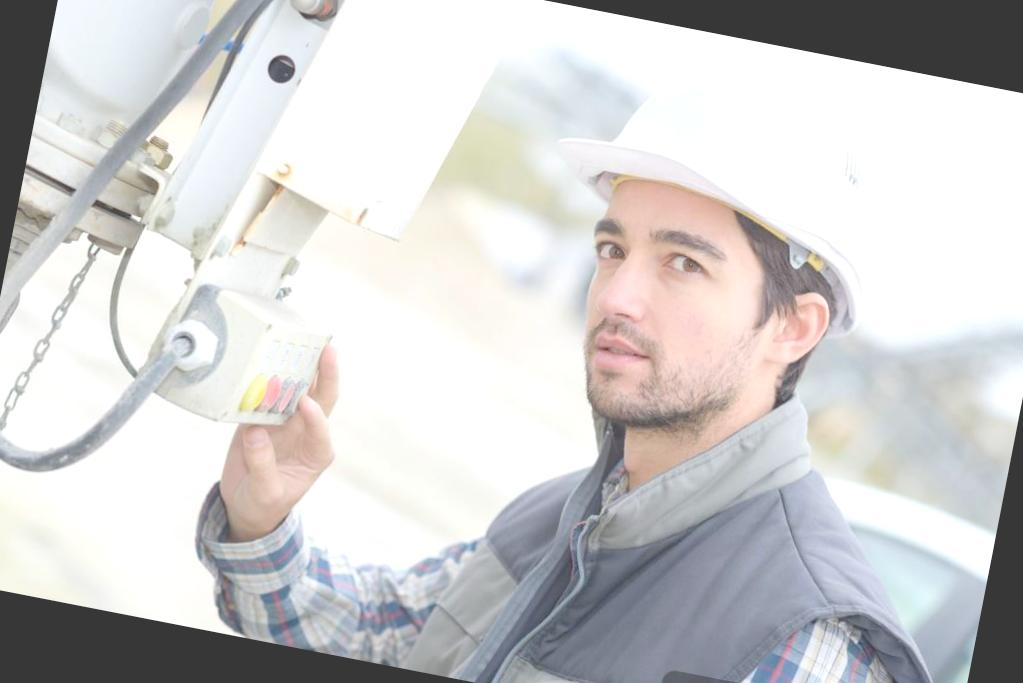helmet: (538, 50, 908, 274)
no_vest: (438, 331, 902, 683)
person: (432, 30, 999, 683)
